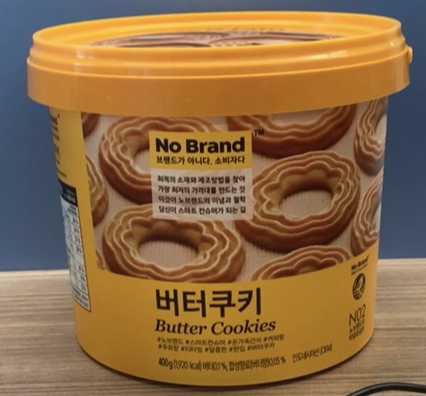cookies_400g-499g: (87, 110, 372, 350)
